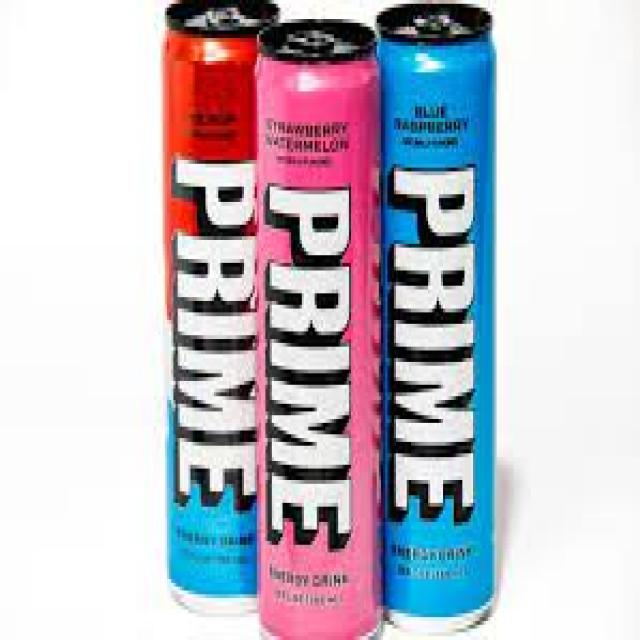Cans: (246, 11, 394, 640), (152, 4, 280, 621), (379, 4, 501, 632)
